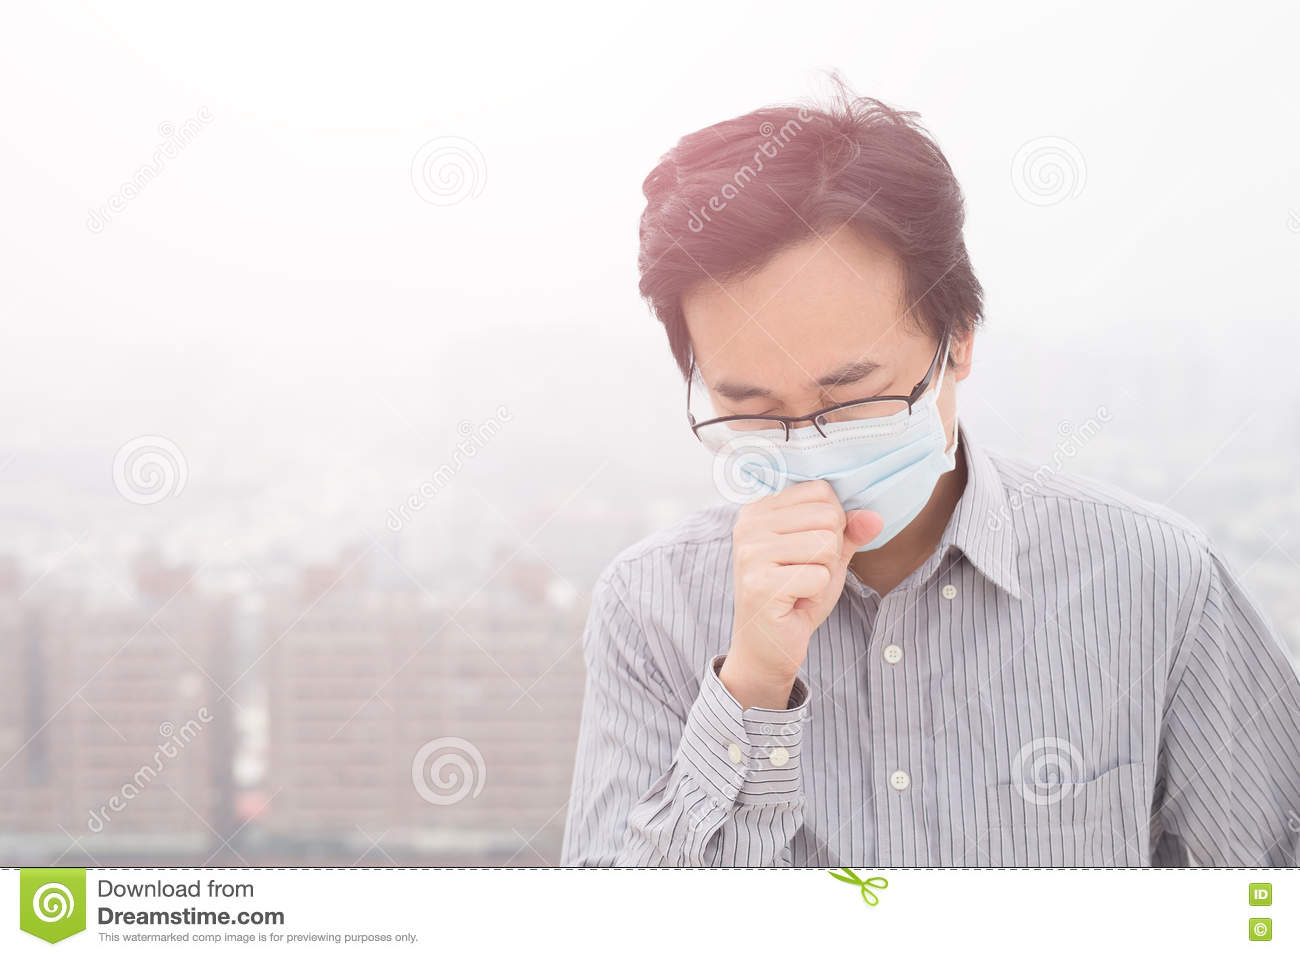mask: (719, 421, 970, 548)
